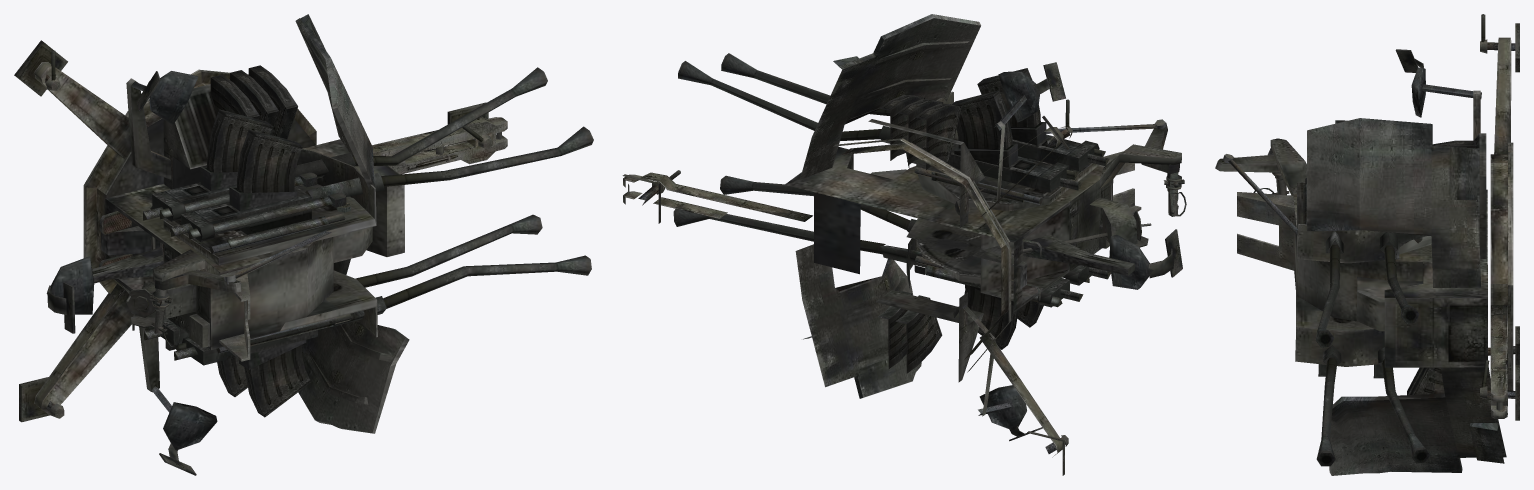
Rendered from german_artillery_flakveirling_d.glb.
The picture shows the model from 3 angles, left to right: view 1: azimuth 30°, elevation 25°; view 2: azimuth 150°, elevation 25°; view 3: azimuth 270°, elevation 25°; orthographic projection. The views are drawn at different scales.
Size of the model in its own units: 168 by 129 by 92.76.
Materials: 1 (1 with a texture image).
